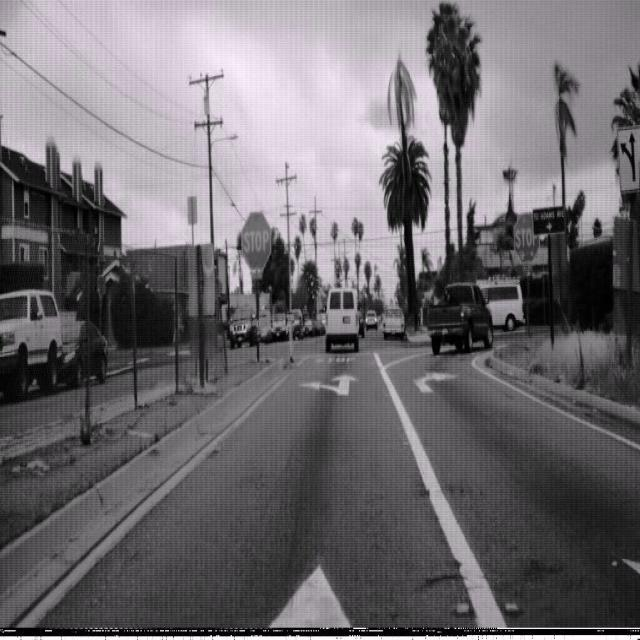stop: (240, 210, 272, 271), (512, 210, 540, 264)
